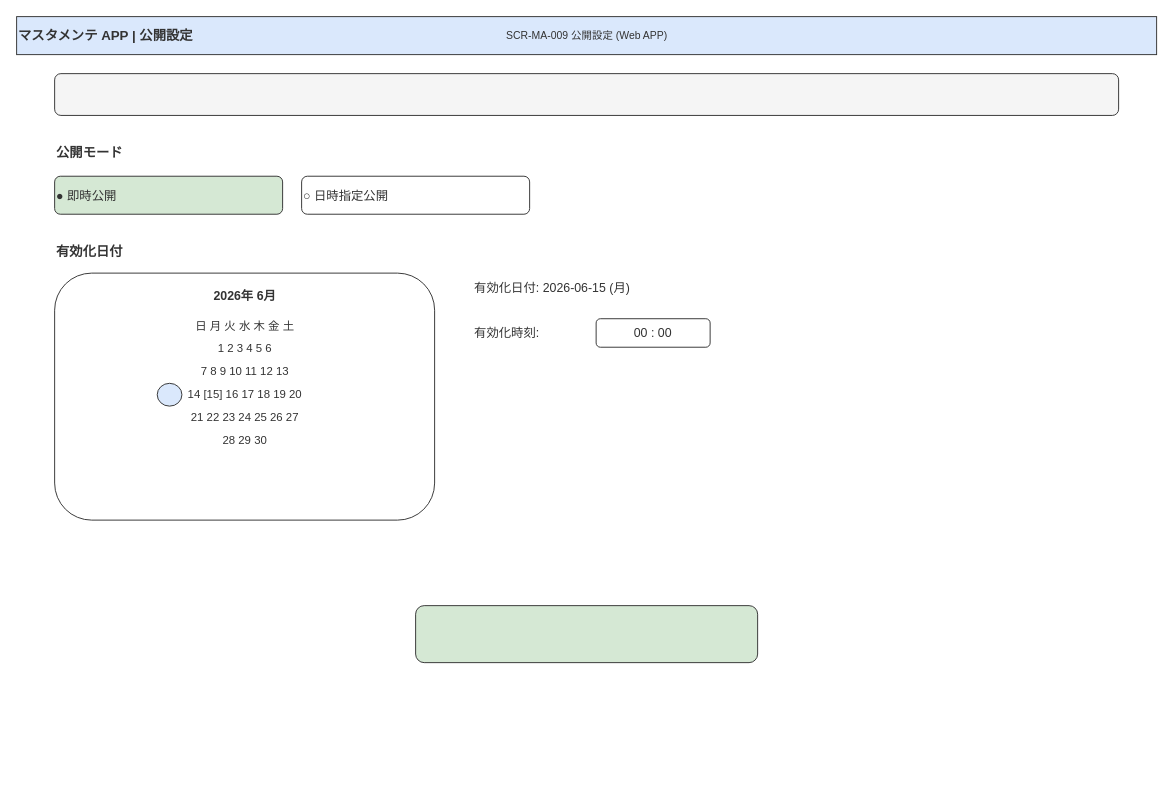
This 1173x793 diagram has some shape labels left out. Here are the shapes that lost their labels. From the top down, the box of each, then its label:
(54, 73, 1119, 115): 公開対象: SOP-001 組立工程A (v2.0) | 承認者: quality_admin_001 | 承認日時: 2026-05-17 14:05
(415, 605, 758, 663): 公開実行
